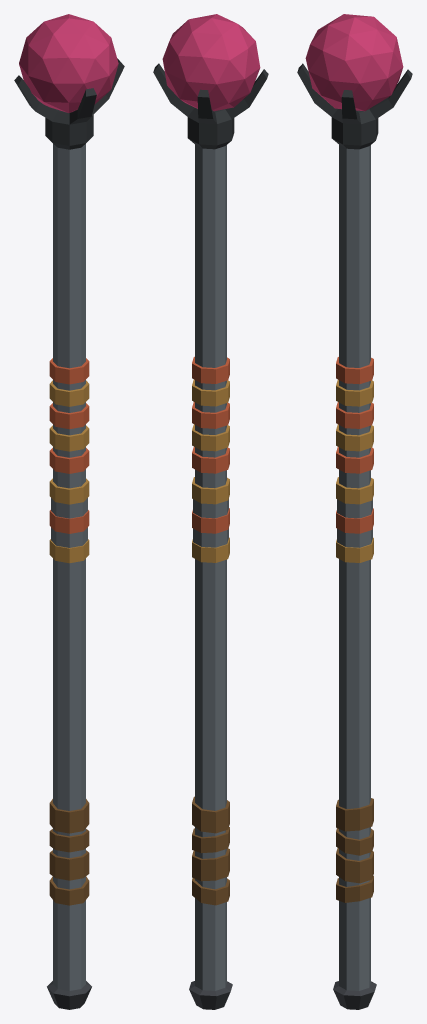
File: Staff_C.glb
3 renders of one model, left to right at view 1: azimuth 90°, elevation 25°; view 2: azimuth 150°, elevation 25°; view 3: azimuth 330°, elevation 25°, orthographic.
Visible parts, largest first — view 1: Staff_C; view 2: Staff_C; view 3: Staff_C.
Part boxes in pixels (x1=…): Staff_C: x1=14, y1=14, x2=124, y2=1009; Staff_C: x1=153, y1=14, x2=268, y2=1009; Staff_C: x1=297, y1=14, x2=412, y2=1009.
Size of the model in its own units: 4837 by 47572 by 4837.
1 material, 1 textured.
